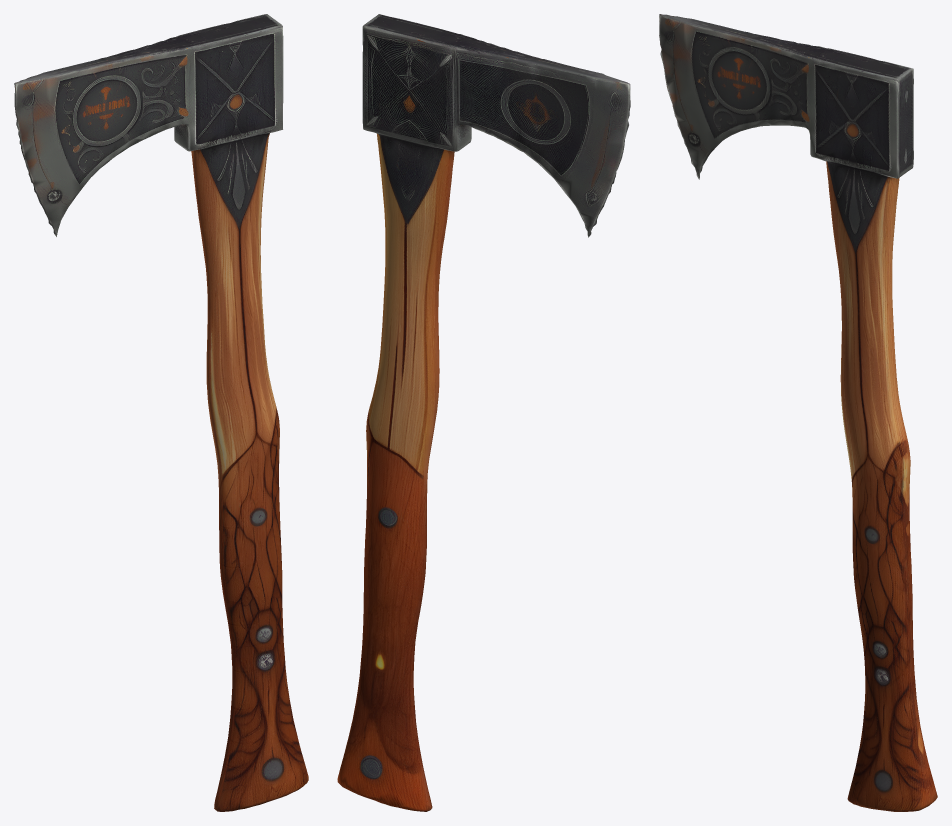
Rendered from axe_battle.glb.
3 renders of one model, left to right at view 1: azimuth 30°, elevation 25°; view 2: azimuth 150°, elevation 25°; view 3: azimuth 330°, elevation 25°, orthographic. The views are drawn at different scales.
Parts seen in each view (by area): view 1: Mesh_0; view 2: Mesh_0; view 3: Mesh_0.
Boxes of the visible parts, x1,y1,x2,y2 form: Mesh_0: (14, 14, 308, 811); Mesh_0: (337, 14, 630, 811); Mesh_0: (659, 14, 937, 811).
Size of the model in its own units: 0.1939 by 0.5 by 0.0305.
1 material, 1 textured.
